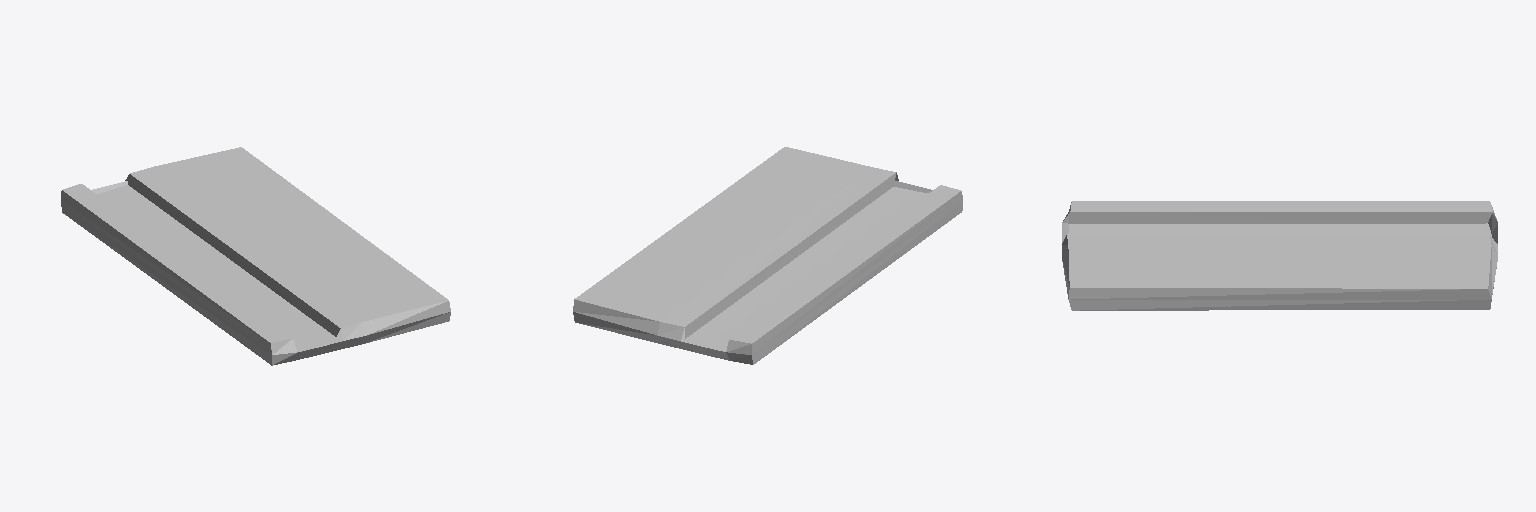
File: land.obj
The picture shows the model from 3 angles: view 1: azimuth 30°, elevation 25°; view 2: azimuth 150°, elevation 25°; view 3: azimuth 270°, elevation 25°; orthographic projection.
Parts seen in each view (by area): view 1: 立方体; view 2: 立方体; view 3: 立方体.
Boxes of the visible parts, x1=… form: 立方体: x1=61, y1=147, x2=450, y2=365; 立方体: x1=573, y1=147, x2=962, y2=364; 立方体: x1=1062, y1=201, x2=1497, y2=310.
Size of the model in its own units: 9.93 by 1.17 by 20.95.